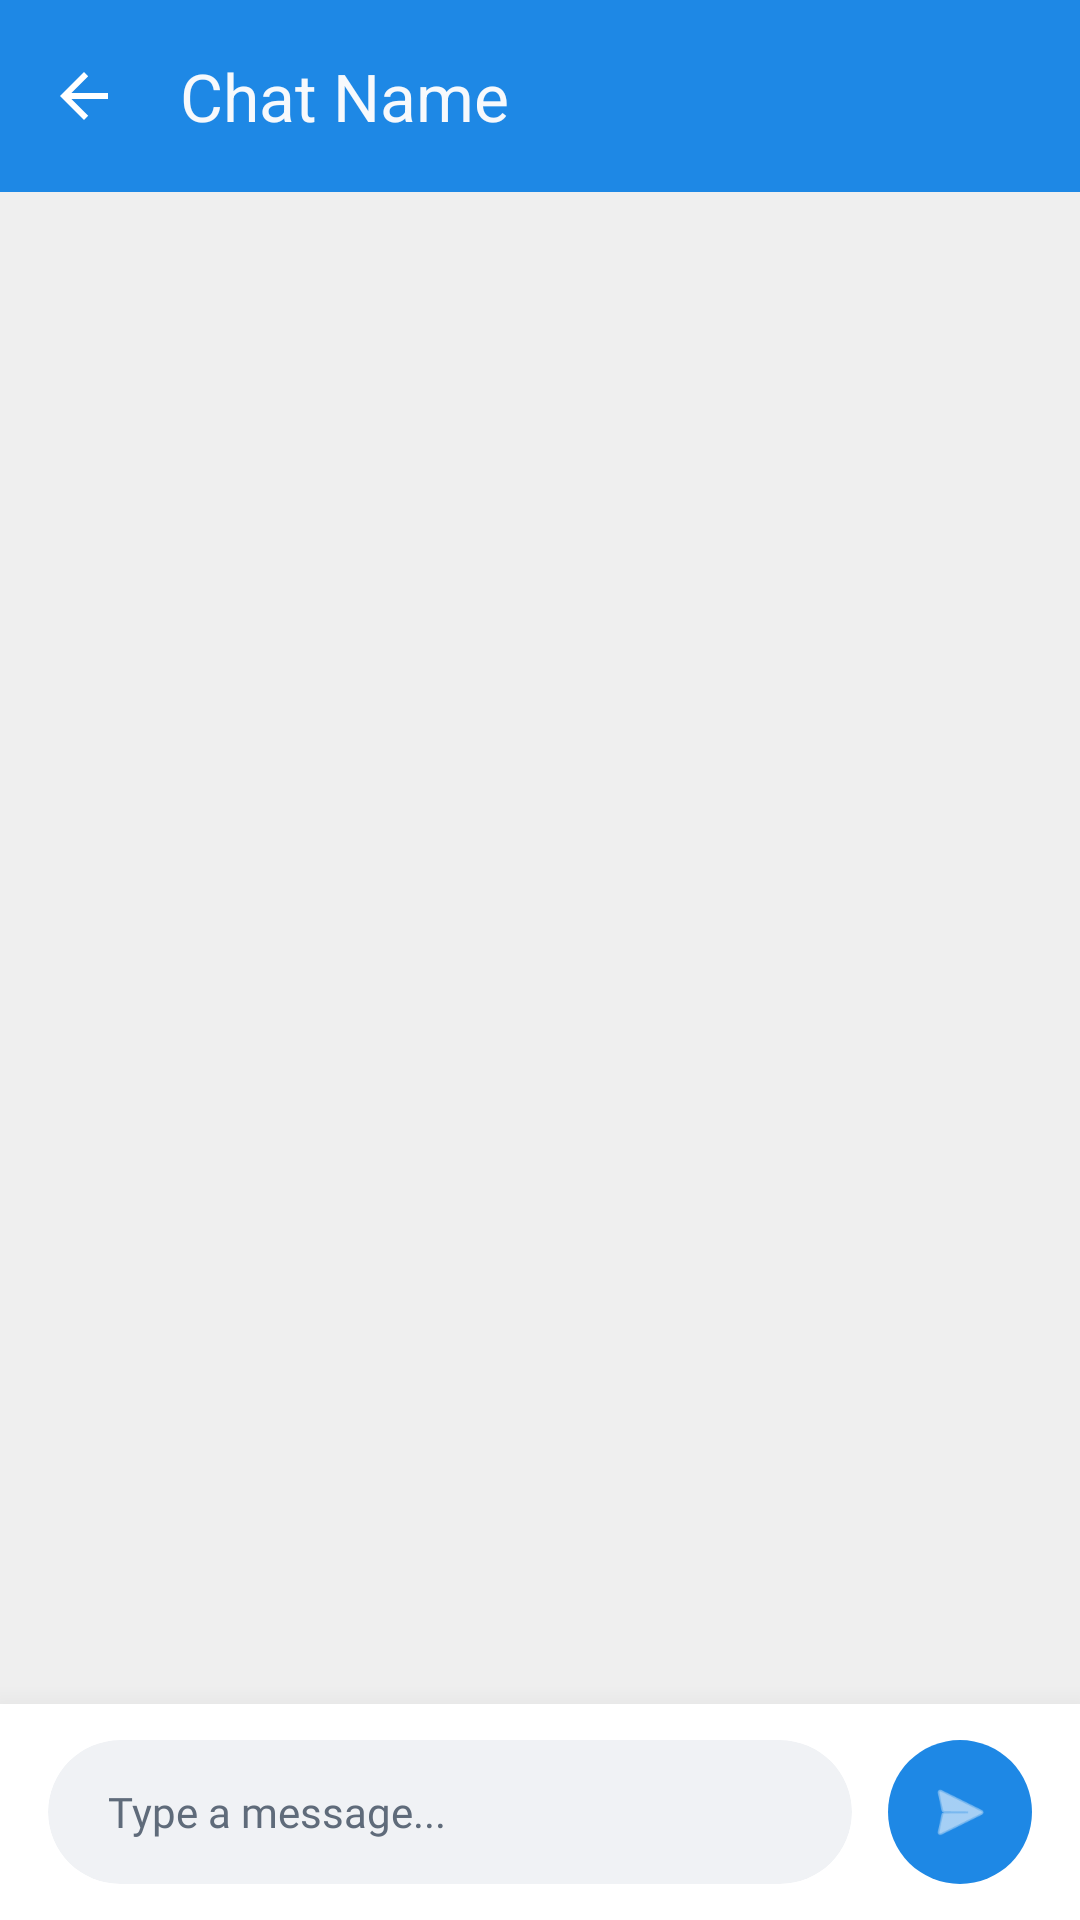

Where icons sit on this 1080 × 1920 app screen, as (x1, y1, x2, y2):
send: (888, 1740, 1032, 1884)
